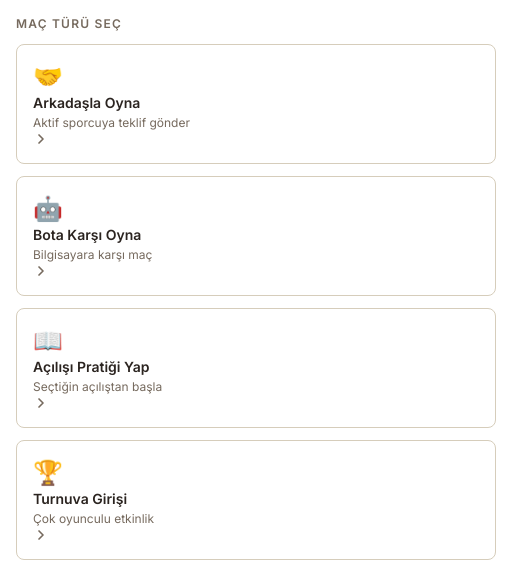
Scenario: /play — 4 sekme (madde a) › Turnuva Girişi seçilince 2 alt sekme (Turnuvaya Katıl/Turnuva Oluştur) açılır
Step 1. Click the text "Turnuva Girişi" → [80, 498], box [33,490,127,507]
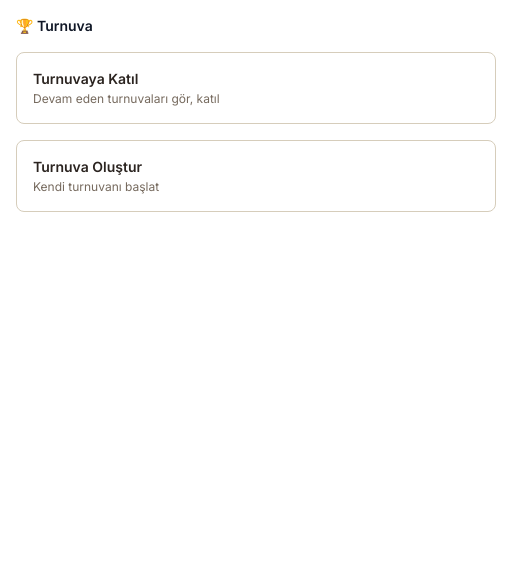
Now the text "Turnuva Oluştur" is shown, box [33,158,142,175]
Now the text "Turnuvaya Katıl" is shown, box [33,70,138,87]
